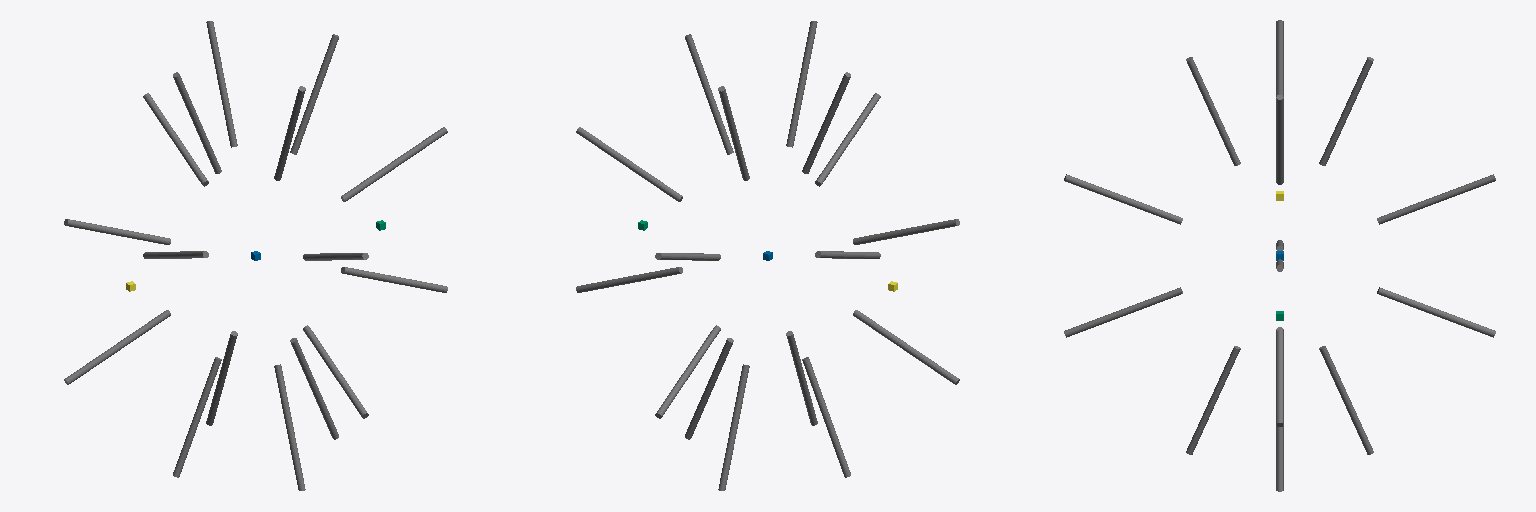
The robot description file, URDF, robot "rolling_robot":
<?xml version="1.0"?>
<robot name="rolling_robot">

  <material name="grey">
    <color rgba="0.5 0.5 0.5 0.5"/>
  </material>
  
  <link name="dummy">
  </link>
  
  <link name="base_link">
    <visual>
      <geometry>
	<mesh filename="[local-path]/rolling_robot/rolling_robot_model/rhombicuboctahedron.stl" scale="0.025641 0.025641 0.025641"/>
      </geometry>
      <origin xyz="0 0 0"/>
      <material name="grey"/>
    </visual>
    <collision>
      <geometry>
	<mesh filename="[local-path]/rolling_robot/rolling_robot_model/rhombicuboctahedron.stl" scale="0.025641 0.025641 0.025641"/>
      </geometry>
    </collision>
    <inertial>
      <mass value="20"/>
      <inertia ixx="3.3334" ixy="0.0" ixz="0.0" iyy="3.3334" iyz="0.0" izz="3.3334"/>
    </inertial>
  </link>
  
  <joint name="dummy_joint" type="fixed">
     <parent link="dummy"/>
     <child link="base_link"/>
   </joint>

  <link name="link1">
    <visual>
      <geometry>
        <cylinder length="0.1778" radius="0.005"/>
      </geometry>
      <origin rpy="-0.392699 -0 -0" xyz="0 -0.094 -0.224703"/>
      <material name="grey"/>
    </visual>
    <collision>
      <geometry>
	    <cylinder length="0.1778" radius="0.005"/>
      </geometry>
      <origin rpy="-0.392699 -0 -0" xyz="0 -0.094 -0.224703"/>
    </collision>
    <inertial>
      <mass value="0.1"/>
    <inertia ixx="0.00026407" ixy="0.0" ixz="0.0" iyy="0.00026407" iyz="0.0" izz="0.00026407"/>
    </inertial>
  </link>

  <link name="link2">
    <visual>
      <geometry>
        <cylinder length="0.1778" radius="0.005"/>
      </geometry>
      <origin rpy="0.392699 -0 -0" xyz="0 0.094 -0.224703"/>
      <material name="grey"/>
    </visual>
    <collision>
      <geometry>
	    <cylinder length="0.1778" radius="0.005"/>
      </geometry>
      <origin rpy="0.392699 -0 -0" xyz="0 0.094 -0.224703"/>
    </collision>
    <inertial>
      <mass value="0.1"/>
    <inertia ixx="0.00026407" ixy="0.0" ixz="0.0" iyy="0.00026407" iyz="0.0" izz="0.00026407"/>
    </inertial>
  </link>

  <link name="link3">
    <visual>
      <geometry>
        <cylinder length="0.1778" radius="0.005"/>
      </geometry>
      <origin rpy="1.178097 0 0" xyz="0 0.221 -0.088000"/>
      <material name="grey"/>
    </visual>
    <collision>
      <geometry>
	    <cylinder length="0.1778" radius="0.005"/>
      </geometry>
      <origin rpy="1.178097 0 0" xyz="0 0.221 -0.088000"/>
    </collision>
    <inertial>
      <mass value="0.1"/>
    <inertia ixx="0.00026407" ixy="0.0" ixz="0.0" iyy="0.00026407" iyz="0.0" izz="0.00026407"/>
    </inertial>
  </link>


  <link name="link4">
    <visual>
      <geometry>
        <cylinder length="0.1778" radius="0.005"/>
      </geometry>
      <origin rpy="1.963495 0 0" xyz="0 0.221 0.088000"/>
      <material name="grey"/>
    </visual>
    <collision>
      <geometry>
	    <cylinder length="0.1778" radius="0.005"/>
      </geometry>
      <origin rpy="1.963495 0 0" xyz="0 0.221 0.088000"/>
    </collision>
    <inertial>
      <mass value="0.1"/>
    <inertia ixx="0.00026407" ixy="0.0" ixz="0.0" iyy="0.00026407" iyz="0.0" izz="0.00026407"/>
    </inertial>
  </link>

  <link name="link5">
    <visual>
      <geometry>
        <cylinder length="0.1778" radius="0.005"/>
      </geometry>
      <origin rpy="2.748894 0 0" xyz="0 0.094 0.224703"/>
      <material name="grey"/>
    </visual>
    <collision>
      <geometry>
	    <cylinder length="0.1778" radius="0.005"/>
      </geometry>
      <origin rpy="2.748894 0 0" xyz="0 0.094 0.224703"/>
    </collision>
    <inertial>
      <mass value="0.1"/>
    <inertia ixx="0.00026407" ixy="0.0" ixz="0.0" iyy="0.00026407" iyz="0.0" izz="0.00026407"/>
    </inertial>
  </link>
 
  <link name="link6">
    <visual>
      <geometry>
        <cylinder length="0.1778" radius="0.005"/>
      </geometry>
      <origin rpy="-2.748894 0 0" xyz="0 -0.094 0.224703"/>
      <material name="grey"/>
    </visual>
    <collision>
      <geometry>
	    <cylinder length="0.1778" radius="0.005"/>
      </geometry>
      <origin rpy="-2.748894 0 0" xyz="0 -0.094 0.224703"/>
    </collision>
    <inertial>
      <mass value="0.1"/>
    <inertia ixx="0.00026407" ixy="0.0" ixz="0.0" iyy="0.00026407" iyz="0.0" izz="0.00026407"/>
    </inertial>
  </link>

  <link name="link7">
    <visual>
      <geometry>
        <cylinder length="0.1778" radius="0.005"/>
      </geometry>
      <origin rpy="-1.963495 0 0" xyz="0 -0.221 0.088000"/>
      <material name="grey"/>
    </visual>
    <collision>
      <geometry>
	    <cylinder length="0.1778" radius="0.005"/>
      </geometry>
      <origin rpy="-1.963495 0 0" xyz="0 -0.221 0.088000"/>
    </collision>
    <inertial>
      <mass value="0.1"/>
    <inertia ixx="0.00026407" ixy="0.0" ixz="0.0" iyy="0.00026407" iyz="0.0" izz="0.00026407"/>
    </inertial>
  </link>

  <link name="link8">
    <visual>
      <geometry>
        <cylinder length="0.1778" radius="0.005"/>
      </geometry>
      <origin rpy="-1.178097 0 0" xyz="0 -0.221 -0.088000"/>
      <material name="grey"/>
    </visual>
    <collision>
      <geometry>
	    <cylinder length="0.1778" radius="0.005"/>
      </geometry>
      <origin rpy="-1.178097 0 0" xyz="0 -0.221 -0.088000"/>
    </collision>
    <inertial>
      <mass value="0.1"/>
    <inertia ixx="0.00026407" ixy="0.0" ixz="0.0" iyy="0.00026407" iyz="0.0" izz="0.00026407"/>
    </inertial>
  </link>

  <link name="link9">
    <visual>
      <geometry>
        <cylinder length="0.1778" radius="0.005"/>
      </geometry>
      <origin rpy="0 0.392699 -0" xyz="-0.094 0 -0.224703"/>
      <material name="grey"/>
    </visual>
    <collision>
      <geometry>
	    <cylinder length="0.1778" radius="0.005"/>
      </geometry>
      <origin rpy="0 0.392699 -0" xyz="-0.094 0 -0.224703"/>
    </collision>
    <inertial>
      <mass value="0.1"/>
    <inertia ixx="0.00026407" ixy="0.0" ixz="0.0" iyy="0.00026407" iyz="0.0" izz="0.00026407"/>
    </inertial>
  </link>

  <link name="link10">
    <visual>
      <geometry>
        <cylinder length="0.1778" radius="0.005"/>
      </geometry>
      <origin rpy="0 -0.392699 -0" xyz="0.094 0 -0.224703"/>
      <material name="grey"/>
    </visual>
    <collision>
      <geometry>
	    <cylinder length="0.1778" radius="0.005"/>
      </geometry>
      <origin rpy="0 -0.392699 -0" xyz="0.094 0 -0.224703"/>
    </collision>
    <inertial>
      <mass value="0.1"/>
    <inertia ixx="0.00026407" ixy="0.0" ixz="0.0" iyy="0.00026407" iyz="0.0" izz="0.00026407"/>
    </inertial>
  </link>

  <link name="link11">
    <visual>
      <geometry>
        <cylinder length="0.1778" radius="0.005"/>
      </geometry>
      <origin rpy="0 -1.178097 0" xyz="0.221 0 -0.088000"/>
      <material name="grey"/>
    </visual>
    <collision>
      <geometry>
	    <cylinder length="0.1778" radius="0.005"/>
      </geometry>
      <origin rpy="0 -1.178097 0" xyz="0.221 0 -0.088000"/>
    </collision>
    <inertial>
      <mass value="0.1"/>
    <inertia ixx="0.00026407" ixy="0.0" ixz="0.0" iyy="0.00026407" iyz="0.0" izz="0.00026407"/>
    </inertial>
  </link>

  <link name="link12">
    <visual>
      <geometry>
        <cylinder length="0.1778" radius="0.005"/>
      </geometry>
      <origin rpy="0 -1.963495 0" xyz="0.221 0 0.088000"/>
      <material name="grey"/>
    </visual>
    <collision>
      <geometry>
	    <cylinder length="0.1778" radius="0.005"/>
      </geometry>
      <origin rpy="0 -1.963495 0" xyz="0.221 0 0.088000"/>
    </collision>
    <inertial>
      <mass value="0.1"/>
    <inertia ixx="0.00026407" ixy="0.0" ixz="0.0" iyy="0.00026407" iyz="0.0" izz="0.00026407"/>
    </inertial>
  </link>

  <link name="link13">
    <visual>
      <geometry>
        <cylinder length="0.1778" radius="0.005"/>
      </geometry>
      <origin rpy="0 -2.748894 0" xyz="0.094 0 0.224703"/>
      <material name="grey"/>
    </visual>
    <collision>
      <geometry>
	    <cylinder length="0.1778" radius="0.005"/>
      </geometry>
      <origin rpy="0 -2.748894 0" xyz="0.094 0 0.224703"/>
    </collision>
    <inertial>
      <mass value="0.1"/>
    <inertia ixx="0.00026407" ixy="0.0" ixz="0.0" iyy="0.00026407" iyz="0.0" izz="0.00026407"/>
    </inertial>
  </link>

  <link name="link14">
    <visual>
      <geometry>
        <cylinder length="0.1778" radius="0.005"/>
      </geometry>
      <origin rpy="0 2.748894 0" xyz="-0.094 0 0.224703"/>
      <material name="grey"/>
    </visual>
    <collision>
      <geometry>
	    <cylinder length="0.1778" radius="0.005"/>
      </geometry>
      <origin rpy="0 2.748894 0" xyz="-0.094 0 0.224703"/>
    </collision>
    <inertial>
      <mass value="0.1"/>
    <inertia ixx="0.00026407" ixy="0.0" ixz="0.0" iyy="0.00026407" iyz="0.0" izz="0.00026407"/>
    </inertial>
  </link>

  <link name="link15">
    <visual>
      <geometry>
        <cylinder length="0.1778" radius="0.005"/>
      </geometry>
      <origin rpy="0 1.963495 0" xyz="-0.221 0 0.088000"/>
      <material name="grey"/>
    </visual>
    <collision>
      <geometry>
	    <cylinder length="0.1778" radius="0.005"/>
      </geometry>
      <origin rpy="0 1.963495 0" xyz="-0.221 0 0.088000"/>
    </collision>
    <inertial>
      <mass value="0.1"/>
    <inertia ixx="0.00026407" ixy="0.0" ixz="0.0" iyy="0.00026407" iyz="0.0" izz="0.00026407"/>
    </inertial>
  </link>

  <link name="link16">
    <visual>
      <geometry>
        <cylinder length="0.1778" radius="0.005"/>
      </geometry>
      <origin rpy="0 1.178097 0" xyz="-0.221 0 -0.088000"/>
      <material name="grey"/>
    </visual>
    <collision>
      <geometry>
	    <cylinder length="0.1778" radius="0.005"/>
      </geometry>
      <origin rpy="0 1.178097 0" xyz="-0.221 0 -0.088000"/>
    </collision>
    <inertial>
      <mass value="0.1"/>
    <inertia ixx="0.00026407" ixy="0.0" ixz="0.0" iyy="0.00026407" iyz="0.0" izz="0.00026407"/>
    </inertial>
  </link>

  <joint name="joint1" type="prismatic">
    <parent link="base_link"/>
    <child link="link1"/>
    <origin xyz="0 0 0"/>
    <axis xyz="0 -0.382683 -0.923880"/>
    <limit effort="10000000" lower="0.0" upper="0.1778" velocity="1000"/>
  </joint>

  <joint name="joint2" type="prismatic">
    <parent link="base_link"/>
    <child link="link2"/>
    <origin xyz="0 0 0"/>
    <axis xyz="0 0.382683 -0.923880"/>
    <limit effort="10000000" lower="0.0" upper="0.1778" velocity="1000"/>
  </joint>

  <joint name="joint3" type="prismatic">
    <parent link="base_link"/>
    <child link="link3"/>
    <origin xyz="0 0 0"/>
    <axis xyz="0 0.923879 -0.382683"/>
    <limit effort="10000000" lower="0.0" upper="0.1778" velocity="1000"/>
  </joint>

  <joint name="joint4" type="prismatic">
    <parent link="base_link"/>
    <child link="link4"/>
    <origin xyz="0 0 0"/>
    <axis xyz="0 0.923879 0.382683"/>
    <limit effort="10000000" lower="0.0" upper="0.1778" velocity="1000"/>
  </joint>

  <joint name="joint5" type="prismatic">
    <parent link="base_link"/>
    <child link="link5"/>
    <origin xyz="0 0 0"/>
    <axis xyz="0 0.382683 0.923880"/>
    <limit effort="10000000" lower="0.0" upper="0.1778" velocity="1000"/>
  </joint>

  <joint name="joint6" type="prismatic">
    <parent link="base_link"/>
    <child link="link6"/>
    <origin xyz="0 0 0"/>
    <axis xyz="0 -0.382683 0.923880"/>
    <limit effort="10000000" lower="0.0" upper="0.1778" velocity="1000"/>
  </joint>

  <joint name="joint7" type="prismatic">
    <parent link="base_link"/>
    <child link="link7"/>
    <origin xyz="0 0 0"/>
    <axis xyz="0 -0.923879 0.382683"/>
    <limit effort="10000000" lower="0.0" upper="0.1778" velocity="1000"/>
  </joint>

  <joint name="joint8" type="prismatic">
    <parent link="base_link"/>
    <child link="link8"/>
    <origin xyz="0 0 0"/>
    <axis xyz="0 -0.923879 -0.382683"/>
    <limit effort="10000000" lower="0.0" upper="0.1778" velocity="1000"/>
  </joint>

  <joint name="joint9" type="prismatic">
    <parent link="base_link"/>
    <child link="link9"/>
    <origin xyz="0 0 0"/>
    <axis xyz="-0.382683 0 -0.923880"/>
    <limit effort="10000000" lower="0.0" upper="0.1778" velocity="1000"/>
  </joint>

  <joint name="joint10" type="prismatic">
    <parent link="base_link"/>
    <child link="link10"/>
    <origin xyz="0 0 0"/>
    <axis xyz="0.382683 0 -0.923880"/>
    <limit effort="10000000" lower="0.0" upper="0.1778" velocity="1000"/>
  </joint>

  <joint name="joint11" type="prismatic">
    <parent link="base_link"/>
    <child link="link11"/>
    <origin xyz="0 0 0"/>
    <axis xyz="0.923879 0 -0.382683"/>
    <limit effort="10000000" lower="0.0" upper="0.1778" velocity="1000"/>
  </joint>

  <joint name="joint12" type="prismatic">
    <parent link="base_link"/>
    <child link="link12"/>
    <origin xyz="0 0 0"/>
    <axis xyz="0.923879 0 0.382683"/>
    <limit effort="10000000" lower="0.0" upper="0.1778" velocity="1000"/>
  </joint>

  <joint name="joint13" type="prismatic">
    <parent link="base_link"/>
    <child link="link13"/>
    <origin xyz="0 0 0"/>
    <axis xyz="0.382683 0 0.923880"/>
    <limit effort="10000000" lower="0.0" upper="0.1778" velocity="1000"/>
  </joint>

  <joint name="joint14" type="prismatic">
    <parent link="base_link"/>
    <child link="link14"/>
    <origin xyz="0 0 0"/>
    <axis xyz="-0.382683 0 0.923880"/>
    <limit effort="10000000" lower="0.0" upper="0.1778" velocity="1000"/>
  </joint>

  <joint name="joint15" type="prismatic">
    <parent link="base_link"/>
    <child link="link15"/>
    <origin xyz="0 0 0"/>
    <axis xyz="-0.923879 0 0.382683"/>
    <limit effort="10000000" lower="0.0" upper="0.1778" velocity="1000"/>
  </joint>

  <joint name="joint16" type="prismatic">
    <parent link="base_link"/>
    <child link="link16"/>
    <origin xyz="0 0 0"/>
    <axis xyz="-0.923879 0 -0.382683"/>
    <limit effort="10000000" lower="0.0" upper="0.1778" velocity="1000"/>
  </joint>

  <transmission name="tran1">
    <type>transmission_interface/SimpleTransmission</type>
    <joint name="joint1">
      <hardwareInterface>hardware_interface/EffortJointInterface</hardwareInterface>
    </joint>
    <actuator name="motor1">
      <hardwareInterface>hardware_interface/EffortJointInterface</hardwareInterface>
      <mechanicalReduction>1</mechanicalReduction>
    </actuator>
  </transmission>

  <transmission name="tran2">
    <type>transmission_interface/SimpleTransmission</type>
    <joint name="joint2">
      <hardwareInterface>hardware_interface/EffortJointInterface</hardwareInterface>
    </joint>
    <actuator name="motor2">
      <hardwareInterface>hardware_interface/EffortJointInterface</hardwareInterface>
      <mechanicalReduction>1</mechanicalReduction>
    </actuator>
  </transmission>

  <transmission name="tran3">
    <type>transmission_interface/SimpleTransmission</type>
    <joint name="joint3">
      <hardwareInterface>hardware_interface/EffortJointInterface</hardwareInterface>
    </joint>
    <actuator name="motor3">
      <hardwareInterface>hardware_interface/EffortJointInterface</hardwareInterface>
      <mechanicalReduction>1</mechanicalReduction>
    </actuator>
  </transmission>

  <transmission name="tran4">
    <type>transmission_interface/SimpleTransmission</type>
    <joint name="joint4">
      <hardwareInterface>hardware_interface/EffortJointInterface</hardwareInterface>
    </joint>
    <actuator name="motor4">
      <hardwareInterface>hardware_interface/EffortJointInterface</hardwareInterface>
      <mechanicalReduction>1</mechanicalReduction>
    </actuator>
  </transmission>

  <transmission name="tran5">
    <type>transmission_interface/SimpleTransmission</type>
    <joint name="joint5">
      <hardwareInterface>hardware_interface/EffortJointInterface</hardwareInterface>
    </joint>
    <actuator name="motor5">
      <hardwareInterface>hardware_interface/EffortJointInterface</hardwareInterface>
      <mechanicalReduction>1</mechanicalReduction>
    </actuator>
  </transmission>

  <transmission name="tran6">
    <type>transmission_interface/SimpleTransmission</type>
    <joint name="joint6">
      <hardwareInterface>hardware_interface/EffortJointInterface</hardwareInterface>
    </joint>
    <actuator name="motor6">
      <hardwareInterface>hardware_interface/EffortJointInterface</hardwareInterface>
      <mechanicalReduction>1</mechanicalReduction>
    </actuator>
  </transmission>

  <transmission name="tran7">
    <type>transmission_interface/SimpleTransmission</type>
    <joint name="joint7">
      <hardwareInterface>hardware_interface/EffortJointInterface</hardwareInterface>
    </joint>
    <actuator name="motor7">
      <hardwareInterface>hardware_interface/EffortJointInterface</hardwareInterface>
      <mechanicalReduction>1</mechanicalReduction>
    </actuator>
  </transmission>

  <transmission name="tran8">
    <type>transmission_interface/SimpleTransmission</type>
    <joint name="joint8">
      <hardwareInterface>hardware_interface/EffortJointInterface</hardwareInterface>
    </joint>
    <actuator name="motor8">
      <hardwareInterface>hardware_interface/EffortJointInterface</hardwareInterface>
      <mechanicalReduction>1</mechanicalReduction>
    </actuator>
  </transmission>

  <transmission name="tran9">
    <type>transmission_interface/SimpleTransmission</type>
    <joint name="joint9">
      <hardwareInterface>hardware_interface/EffortJointInterface</hardwareInterface>
    </joint>
    <actuator name="motor9">
      <hardwareInterface>hardware_interface/EffortJointInterface</hardwareInterface>
      <mechanicalReduction>1</mechanicalReduction>
    </actuator>
  </transmission>

  <transmission name="tran10">
    <type>transmission_interface/SimpleTransmission</type>
    <joint name="joint10">
      <hardwareInterface>hardware_interface/EffortJointInterface</hardwareInterface>
    </joint>
    <actuator name="motor10">
      <hardwareInterface>hardware_interface/EffortJointInterface</hardwareInterface>
      <mechanicalReduction>1</mechanicalReduction>
    </actuator>
  </transmission>

  <transmission name="tran11">
    <type>transmission_interface/SimpleTransmission</type>
    <joint name="joint11">
      <hardwareInterface>hardware_interface/EffortJointInterface</hardwareInterface>
    </joint>
    <actuator name="motor11">
      <hardwareInterface>hardware_interface/EffortJointInterface</hardwareInterface>
      <mechanicalReduction>1</mechanicalReduction>
    </actuator>
  </transmission>

  <transmission name="tran12">
    <type>transmission_interface/SimpleTransmission</type>
    <joint name="joint12">
      <hardwareInterface>hardware_interface/EffortJointInterface</hardwareInterface>
    </joint>
    <actuator name="motor12">
      <hardwareInterface>hardware_interface/EffortJointInterface</hardwareInterface>
      <mechanicalReduction>1</mechanicalReduction>
    </actuator>
  </transmission>

  <transmission name="tran13">
    <type>transmission_interface/SimpleTransmission</type>
    <joint name="joint13">
      <hardwareInterface>hardware_interface/EffortJointInterface</hardwareInterface>
    </joint>
    <actuator name="motor13">
      <hardwareInterface>hardware_interface/EffortJointInterface</hardwareInterface>
      <mechanicalReduction>1</mechanicalReduction>
    </actuator>
  </transmission>

  <transmission name="tran14">
    <type>transmission_interface/SimpleTransmission</type>
    <joint name="joint14">
      <hardwareInterface>hardware_interface/EffortJointInterface</hardwareInterface>
    </joint>
    <actuator name="motor14">
      <hardwareInterface>hardware_interface/EffortJointInterface</hardwareInterface>
      <mechanicalReduction>1</mechanicalReduction>
    </actuator>
  </transmission>

  <transmission name="tran15">
    <type>transmission_interface/SimpleTransmission</type>
    <joint name="joint15">
      <hardwareInterface>hardware_interface/EffortJointInterface</hardwareInterface>
    </joint>
    <actuator name="motor15">
      <hardwareInterface>hardware_interface/EffortJointInterface</hardwareInterface>
      <mechanicalReduction>1</mechanicalReduction>
    </actuator>
  </transmission>

  <transmission name="tran16">
    <type>transmission_interface/SimpleTransmission</type>
    <joint name="joint16">
      <hardwareInterface>hardware_interface/EffortJointInterface</hardwareInterface>
    </joint>
    <actuator name="motor16">
      <hardwareInterface>hardware_interface/EffortJointInterface</hardwareInterface>
      <mechanicalReduction>1</mechanicalReduction>
    </actuator>
  </transmission>

	<link name="uwb_link1">
	  <inertial>
		<mass value="0.00001"/>
		<origin rpy="0 0 0" xyz="0 0 0"/>
		<inertia ixx="0" ixy="0" ixz="0" iyy="0" iyz="0" izz="0"/>
	  </inertial>
	  <visual>
		<origin rpy="0 0 0" xyz="0 0 0"/>
		<geometry>
		  <box size="0.01 0.01 0.01"/>
		</geometry>
	  </visual>
	  <collision>
		<origin rpy="0 0 0" xyz="0 0 0"/>
		<geometry>
		  <box size=".01 .01 .01"/>
		</geometry>
	  </collision>
	</link>

	<link name="uwb_link2">
	  <inertial>
		<mass value="0.00001"/>
		<origin rpy="0 0 0" xyz="-0 0 0"/>
		<inertia ixx="0" ixy="0" ixz="0" iyy="0" iyz="0" izz="0"/>
	  </inertial>
	  <visual>
		<origin rpy="0 0 0" xyz="-0 0 0"/>
		<geometry>
		  <box size="0.01 0.01 0.01"/>
		</geometry>
	  </visual>
	  <collision>
		<origin rpy="0 0 0" xyz="-0 0 0"/>
		<geometry>
		  <box size="0.01 0.01 0.01"/>
		</geometry>
	  </collision>
	</link>

  <joint name="uwb_joint1" type="revolute">
     <parent link="base_link"/>
     <child link="uwb_link1"/>
     <origin xyz="0.2 0 0" rpy="0 0 0"/>
     <limit lower="0" upper="0" effort="0" velocity="0"/>
     <axis xyz="0 0 0"/>
   </joint>

  <joint name="uwb_joint2" type="revolute">
     <parent link="base_link"/>
     <child link="uwb_link2"/>
     <origin xyz="-0.2 0 0" rpy="0 0 0"/>
     <limit lower="0" upper="0" effort="0" velocity="0"/>
     <axis xyz="0 0 0"/>
   </joint>

	<link name="imu_link">
	  <inertial>
		<mass value="0.001"/>
		<origin rpy="0 0 0" xyz="0 0 0"/>
		<inertia ixx="0.0001" ixy="0" ixz="0" iyy="0.000001" iyz="0" izz="0.0001"/>
	  </inertial>
	  <visual>
		<origin rpy="0 0 0" xyz="0 0 0"/>
		<geometry>
		  <box size="0.01 0.01 0.01"/>
		</geometry>
	  </visual>
	  <collision>
		<origin rpy="0 0 0" xyz="0 0 0"/>
		<geometry>
		  <box size=".01 .01 .01"/>
		</geometry>
	  </collision>
	</link>

  <joint name="imu_joint" type="revolute">
     <parent link="base_link"/>
     <child link="imu_link"/>
     <origin xyz="0 0 0" rpy="0 0 0"/>
     <limit lower="0" upper="0" effort="0" velocity="0"/>
     <axis xyz="0 0 0"/>
   </joint>

  <gazebo reference="imu_link">
    <gravity>true</gravity>
    <sensor name="imu_sensor" type="imu">
      <always_on>true</always_on>
      <update_rate>100</update_rate>
      <visualize>true</visualize>
      <topic>__default_topic__</topic>
      <plugin filename="libgazebo_ros_imu_sensor.so" name="imu_plugin">
        <topicName>/imu/data_raw</topicName>
        <bodyName>imu_link</bodyName>
        <updateRateHZ>10.0</updateRateHZ>
        <gaussianNoise>0.0</gaussianNoise>
        <xyzOffset>0 0 0</xyzOffset>
        <rpyOffset>0 0 0</rpyOffset>
        <frameName>imu_link</frameName>
        <initialOrientationAsReference>false</initialOrientationAsReference>
      </plugin>
      <pose>0 0 0 0 0 0</pose>
    </sensor>
  </gazebo>

    <!-- ros_control plugin -->
<gazebo>
  <plugin name="gazebo_ros_control" filename="libgazebo_ros_control.so">
    <robotSimType>gazebo_ros_control/DefaultRobotHWSim</robotSimType>
  </plugin>
</gazebo>
  
</robot>

--- Render facts (derived) ---
Views: 3 orthographic renders of the robot side by side, from view 1: azimuth 30°, elevation 25°; view 2: azimuth 150°, elevation 25°; view 3: azimuth 270°, elevation 25°.
Robot: rolling_robot — 21 links, 20 joints (3 revolute, 16 prismatic, 1 fixed); root link dummy; default pose: every joint at zero.
Links seen in each view (by area): view 1: link1, link5, link9, link13, link12, link16, link4, link8, link10, link14, link11, link15 (+2 smaller); view 2: link2, link6, link9, link13, link12, link16, link3, link7, link10, link14, link11, link15 (+2 smaller); view 3: link3, link4, link7, link8, link1, link2, link5, link6, link11, link13, link14.
Link boxes in pixels (box(x1,y1,x2,y2)): link1: box(274, 364, 305, 490); link5: box(206, 21, 237, 147); link9: box(173, 357, 221, 477); link13: box(290, 34, 338, 154); link12: box(341, 127, 447, 201); link16: box(64, 310, 170, 384); link4: box(143, 93, 208, 186); link8: box(303, 325, 368, 418); link10: box(290, 338, 338, 439); link14: box(173, 72, 221, 173); link11: box(341, 267, 447, 292); link15: box(64, 219, 170, 244); link2: box(718, 364, 749, 490); link6: box(786, 21, 817, 147); link9: box(802, 357, 850, 477); link13: box(685, 34, 733, 154); link12: box(576, 127, 682, 201); link16: box(853, 310, 959, 384); link3: box(655, 325, 720, 418); link7: box(815, 93, 880, 186); link10: box(685, 338, 733, 439); link14: box(802, 72, 850, 173); link11: box(576, 267, 682, 292); link15: box(853, 219, 959, 244); link3: box(1377, 287, 1495, 337); link4: box(1377, 174, 1495, 224); link7: box(1064, 174, 1182, 224); link8: box(1064, 287, 1182, 337); link1: box(1186, 346, 1240, 454); link2: box(1319, 346, 1373, 454); link5: box(1319, 57, 1373, 165); link6: box(1186, 57, 1240, 165); link11: box(1276, 330, 1283, 426); link13: box(1276, 95, 1283, 184); link14: box(1276, 20, 1283, 96).
Size in the robot's own frame: 0.6101 by 0.6101 by 0.6175 metres.
Geometry: only primitive shapes (box / cylinder / sphere) drawn; not drawn: 1 mesh visual (reference in a form the renderer does not follow).
